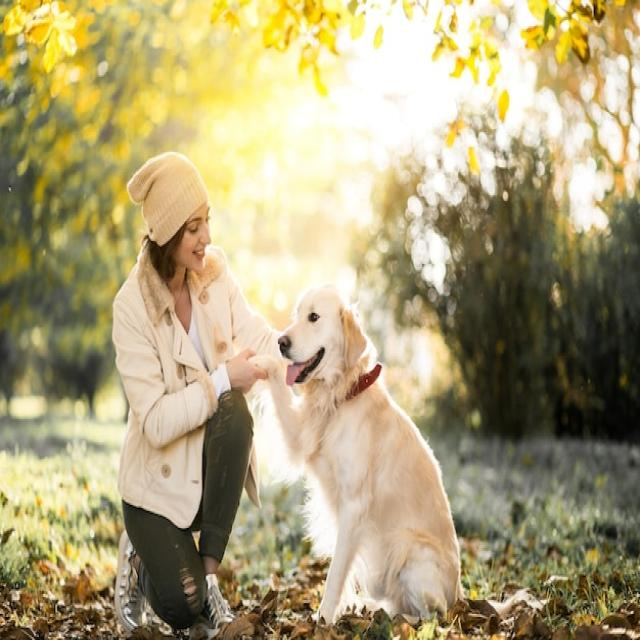Dog: (254, 280, 462, 622)
Person: (112, 149, 281, 640)
